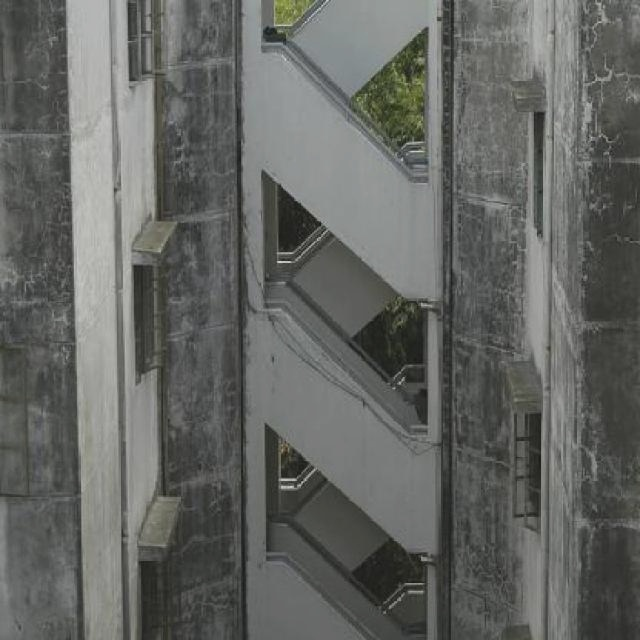stair: (238, 0, 447, 638)
